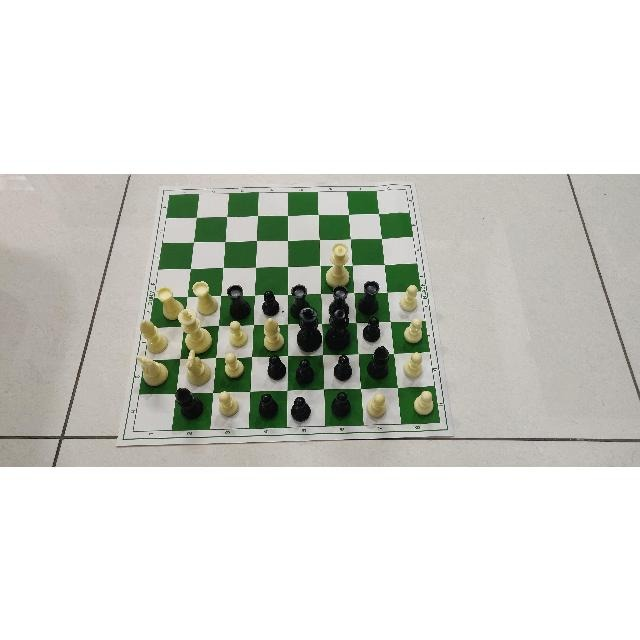black-bishop: (174, 385, 209, 422), (366, 343, 393, 386)
black-king: (298, 307, 317, 352)
black-pawn: (296, 356, 318, 386), (330, 388, 350, 418), (258, 392, 279, 420), (332, 353, 352, 382), (265, 351, 284, 380), (362, 315, 382, 341), (291, 394, 310, 420), (261, 289, 279, 315)
black-queen: (324, 309, 349, 353)
black-rook: (226, 284, 250, 320), (357, 279, 381, 313), (289, 280, 313, 305), (328, 283, 348, 304)
white-bishop: (136, 319, 172, 353), (259, 316, 284, 351)
white-king: (175, 307, 213, 345)
white-knight: (134, 352, 168, 385), (180, 349, 213, 382)
white-pawn: (213, 387, 236, 418), (363, 391, 389, 417), (222, 320, 247, 346), (399, 282, 419, 313), (222, 349, 243, 375), (405, 348, 422, 379), (404, 314, 423, 340), (416, 387, 435, 413)
white-queen: (326, 242, 352, 282)
white-rook: (191, 278, 219, 314), (153, 287, 177, 310)
